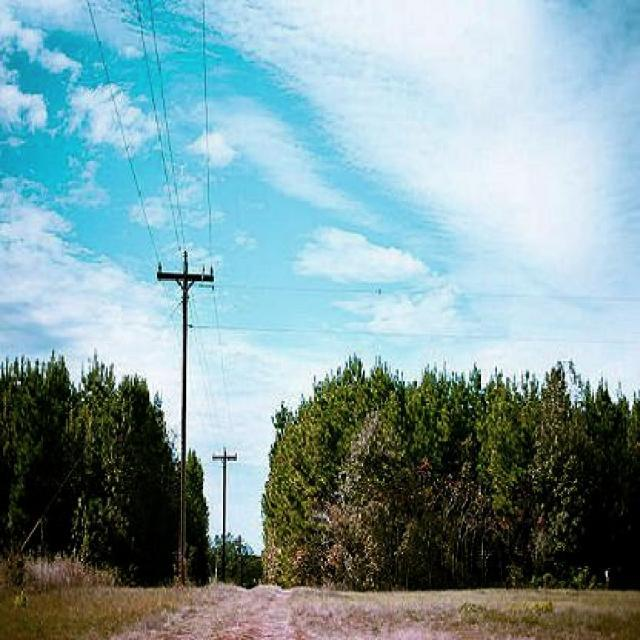crossarm: (154, 265, 215, 289)
pole: (177, 248, 192, 591)
wire: (85, 0, 161, 267), (134, 0, 182, 256), (148, 0, 187, 251), (202, 0, 213, 275)
